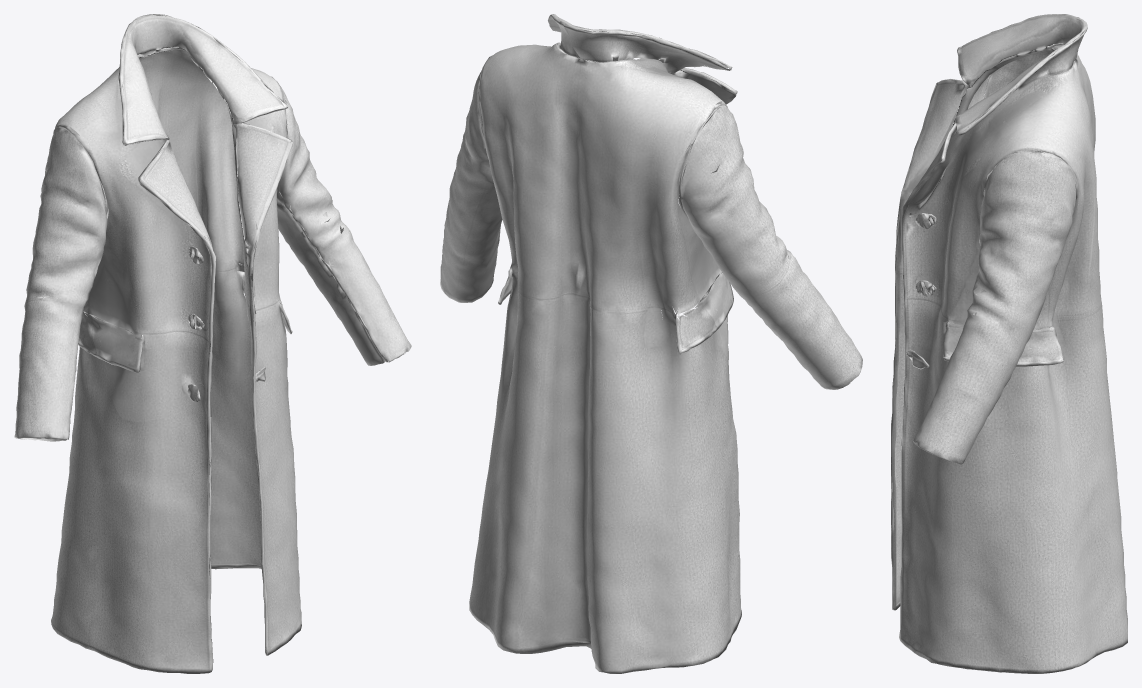
The model's file is coat-01.glb.
3 views of the same model, side by side, from view 1: azimuth 30°, elevation 25°; view 2: azimuth 150°, elevation 25°; view 3: azimuth 270°, elevation 25° (orthographic). The views are drawn at different scales.
Visible parts, largest first — view 1: coat-01; view 2: coat-01; view 3: coat-01.
Part boxes in pixels (x1,y1,x2,y2): coat-01: (14, 14, 411, 673); coat-01: (440, 14, 862, 673); coat-01: (891, 14, 1127, 673).
Bounding box in the file's own units: 2.08 × 2.98 × 1.07.
Materials: 1 (1 with a texture image).
